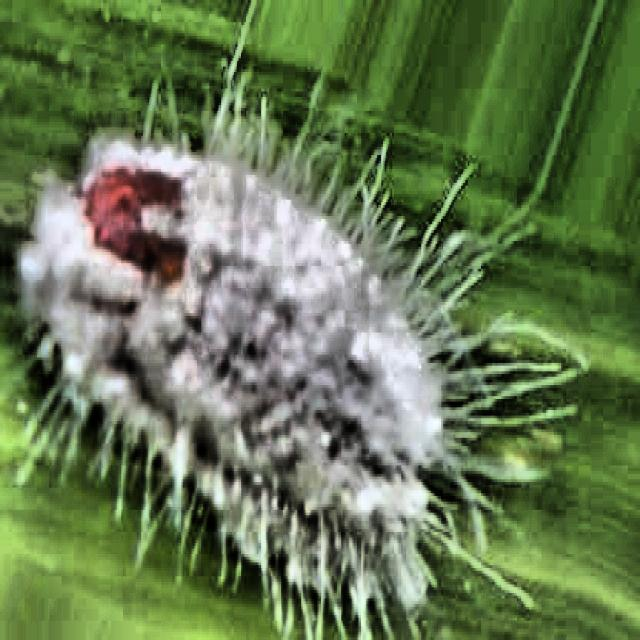Mealy-bug: (0, 24, 506, 634)
